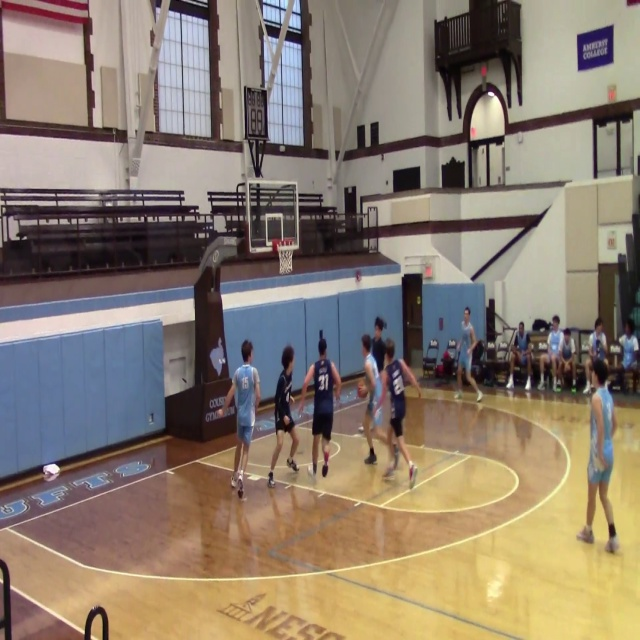Basketball: (357, 385, 368, 398)
